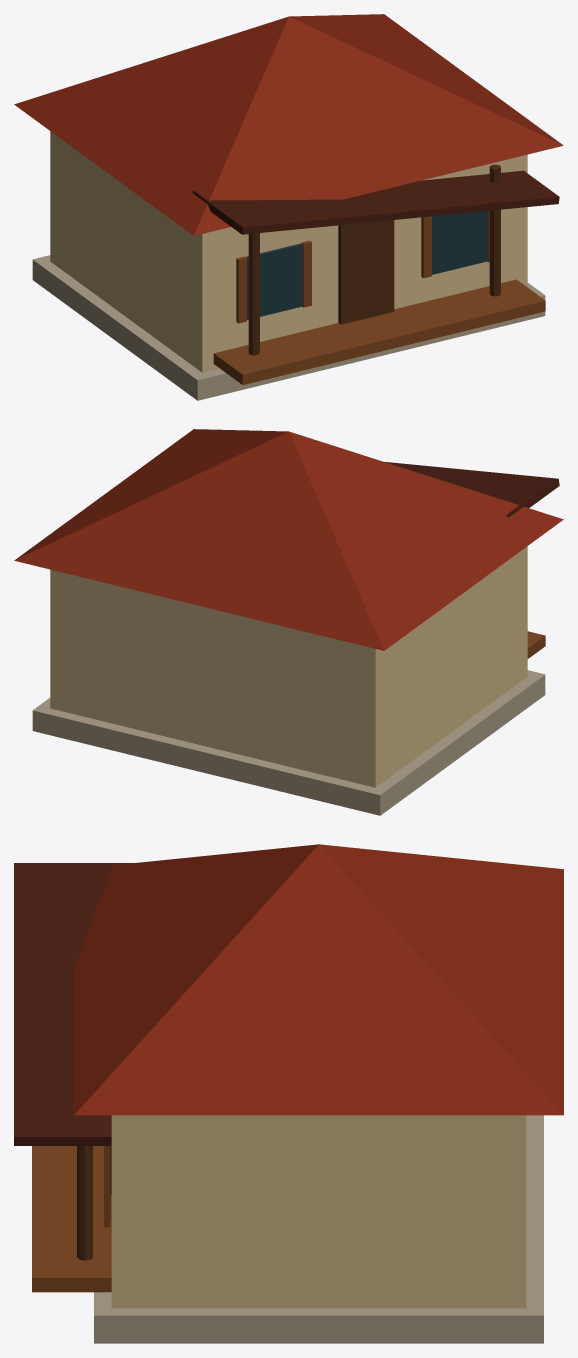
Rendered from RumahKampung.obj.
3 views of the same model, one above another, from view 1: azimuth 30°, elevation 25°; view 2: azimuth 150°, elevation 25°; view 3: azimuth 270°, elevation 25° (orthographic). The views are drawn at different scales.
Visible parts, largest first — view 1: TILE_ROOF, MAIN_WALL, VERANDA_FLOOR, PORCH_ROOF, FOUNDATION, DOOR, WINDOW_1.65, WINDOW_-1.65, VERANDA_POST_-2.15, VERANDA_POST_2.15, SHUTTER_L_-1.65, SHUTTER_L_1.65 (+1 smaller); view 2: TILE_ROOF, MAIN_WALL, FOUNDATION, PORCH_ROOF; view 3: TILE_ROOF, MAIN_WALL, PORCH_ROOF, FOUNDATION, VERANDA_FLOOR, VERANDA_POST_2.15.
Boxes of the visible parts, x1,y1,x2,y2 form: TILE_ROOF: (14, 14, 563, 235); MAIN_WALL: (50, 131, 527, 372); VERANDA_FLOOR: (213, 279, 545, 384); PORCH_ROOF: (192, 170, 559, 234); FOUNDATION: (32, 255, 545, 400); DOOR: (338, 220, 394, 324); WINDOW_1.65: (432, 211, 487, 274); WINDOW_-1.65: (246, 243, 302, 319); VERANDA_POST_-2.15: (248, 233, 259, 355); VERANDA_POST_2.15: (489, 164, 500, 296); SHUTTER_L_-1.65: (236, 256, 246, 323); SHUTTER_L_1.65: (421, 216, 431, 278); TILE_ROOF: (14, 429, 563, 650); MAIN_WALL: (50, 546, 527, 787); FOUNDATION: (32, 670, 545, 815); PORCH_ROOF: (385, 462, 559, 517); TILE_ROOF: (74, 844, 563, 1115); MAIN_WALL: (111, 1115, 526, 1308); PORCH_ROOF: (14, 863, 133, 1145); FOUNDATION: (94, 1115, 543, 1343); VERANDA_FLOOR: (32, 1146, 111, 1292); VERANDA_POST_2.15: (77, 1146, 92, 1260).
Size of the model in its own units: 6.6 by 4.8 by 6.23.
